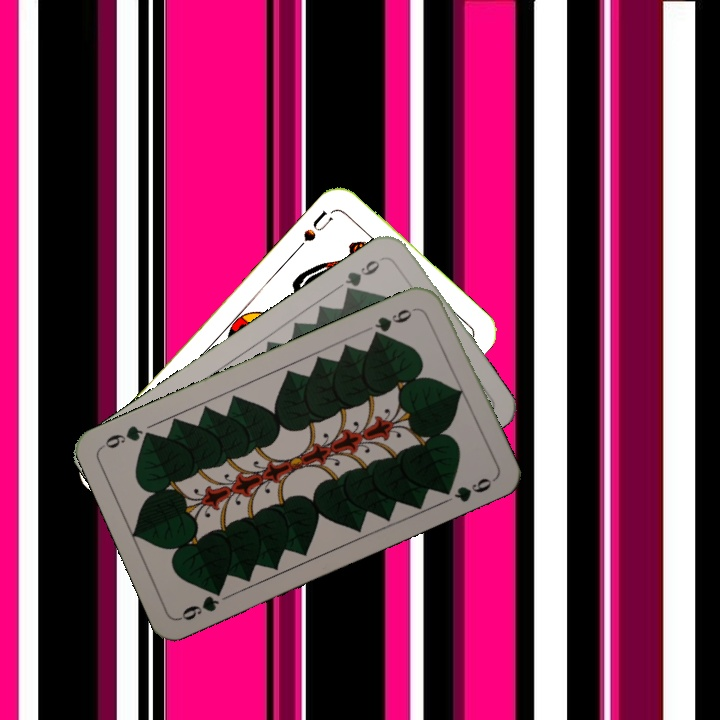G9: (341, 252, 388, 298), (175, 582, 226, 623), (368, 303, 421, 341)
SU: (292, 206, 336, 253)
